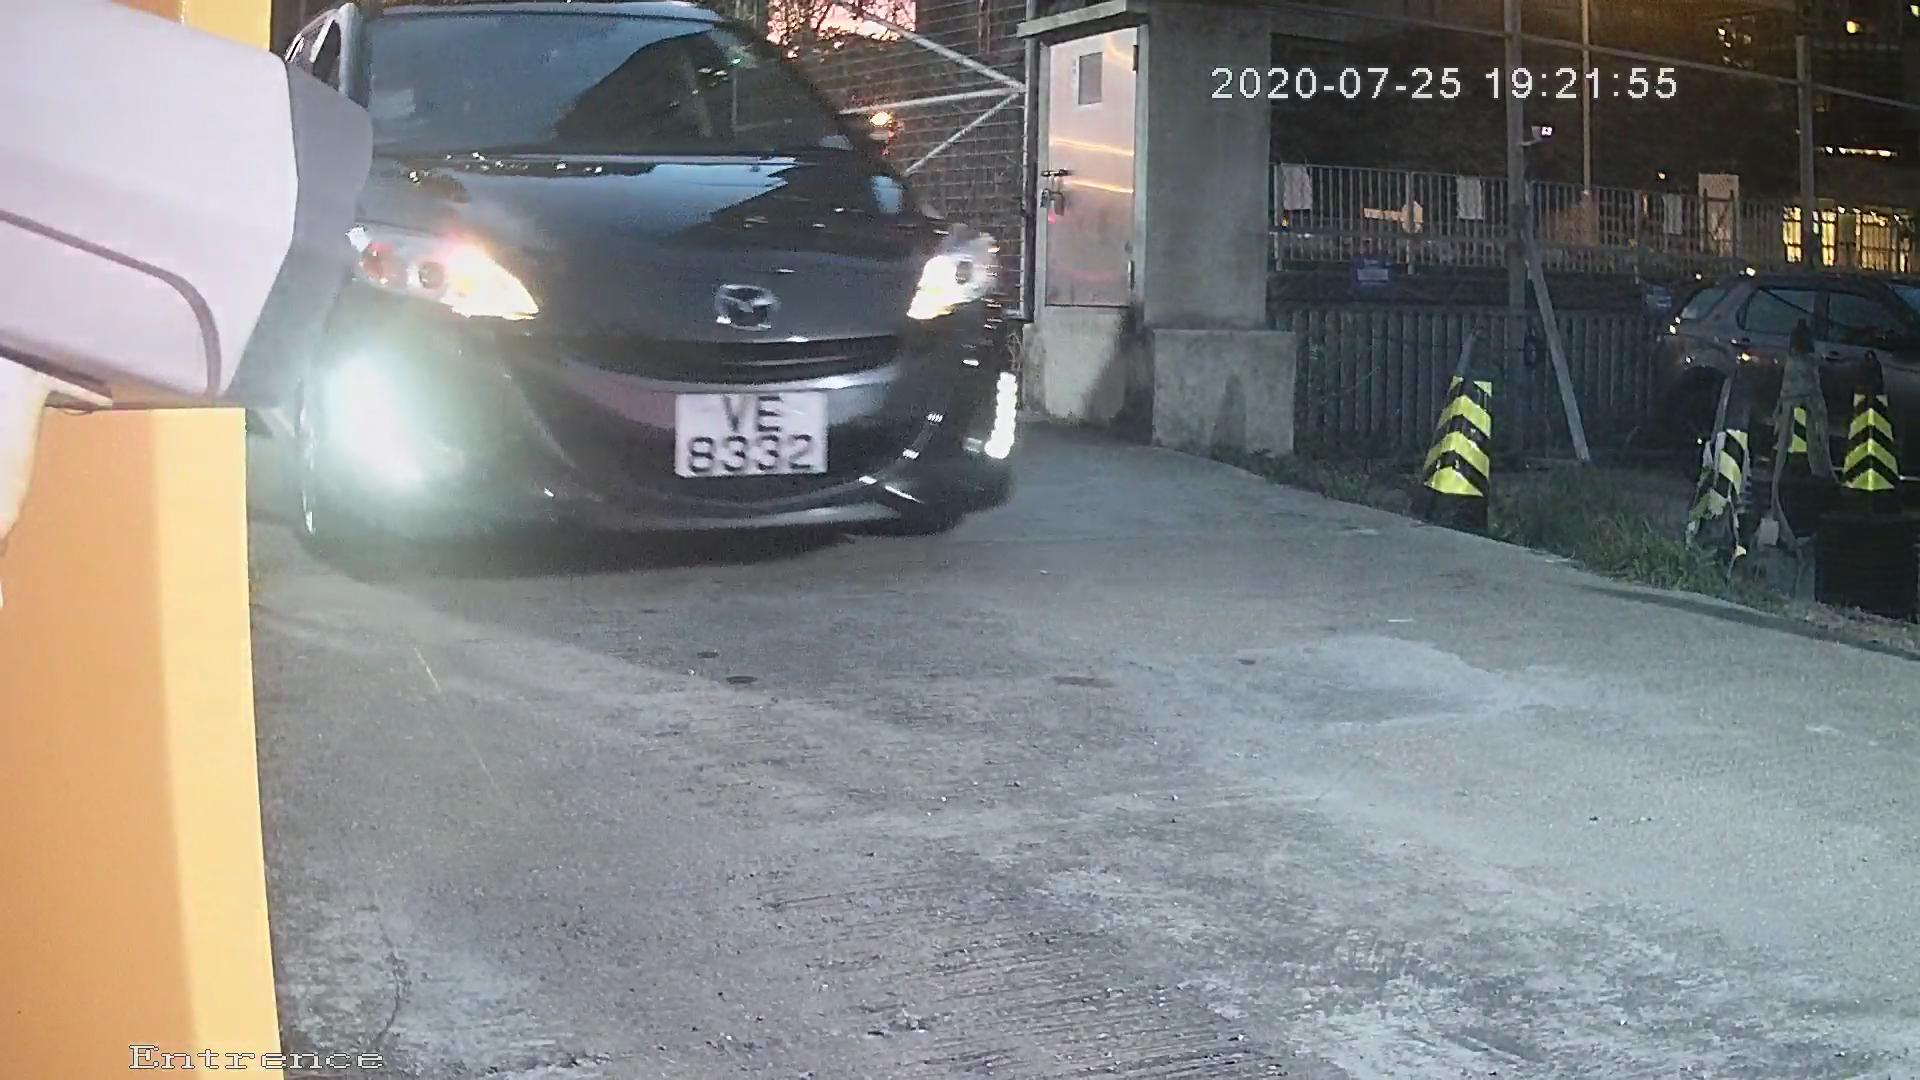License Plate: (643, 381, 832, 492)
